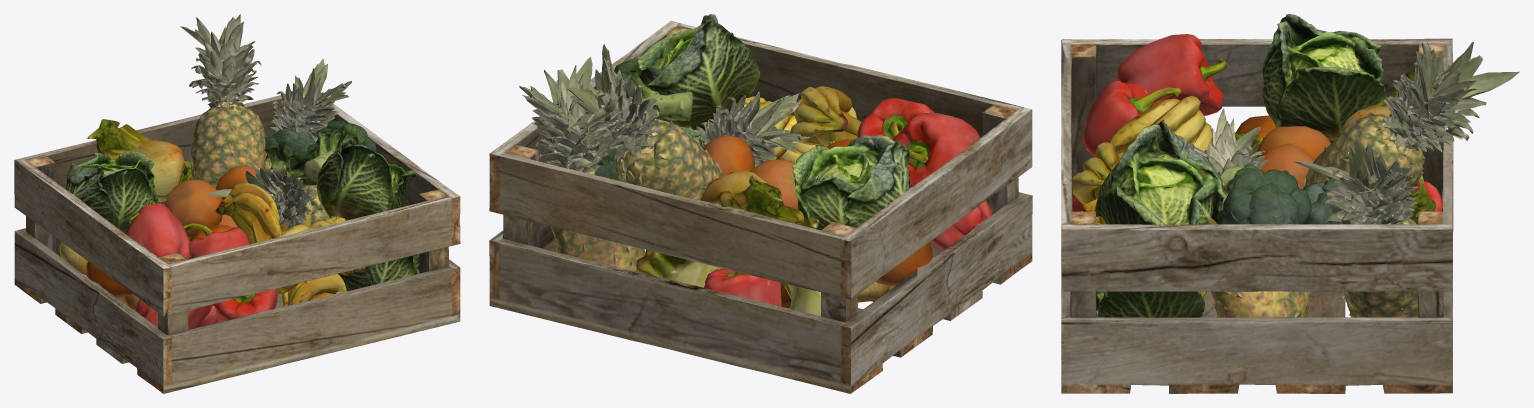
The model's file is market_stock.glb.
3 views of the same model, side by side, from view 1: azimuth 30°, elevation 25°; view 2: azimuth 150°, elevation 25°; view 3: azimuth 270°, elevation 25° (orthographic). The views are drawn at different scales.
Visible parts, largest first — view 1: Object_3; view 2: Object_3; view 3: Object_3.
Boxes of the visible parts, x1,y1,x2,y2 form: Object_3: [14, 14, 460, 393]; Object_3: [489, 14, 1032, 393]; Object_3: [1061, 14, 1519, 393].
Bounding box in the file's own units: 36.32 × 26.52 × 36.9.
1 material, 1 textured.
